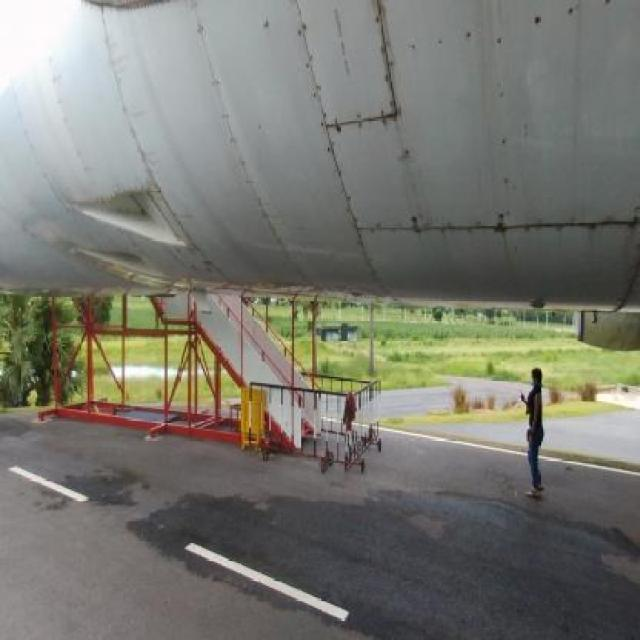Missing-Rivet: (297, 25, 348, 228), (487, 31, 525, 223), (412, 23, 592, 57)
Rust: (489, 214, 637, 289), (389, 122, 436, 233), (375, 11, 408, 118)
